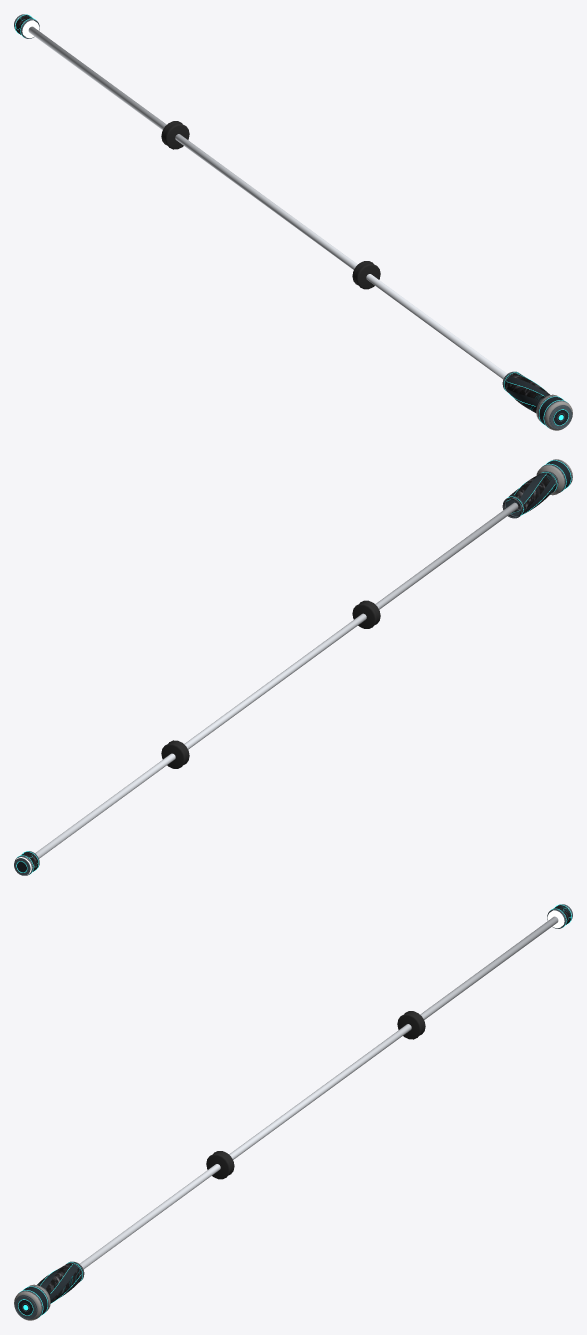
File: fuzeball_rod_3man.glb
3 views of the same model, one above another, from view 1: azimuth 30°, elevation 25°; view 2: azimuth 150°, elevation 25°; view 3: azimuth 330°, elevation 25° (orthographic).
Parts seen in each view (by area): view 1: rod2_bar.002, rod3_handle_obsidian_grip, obsidian_hardware_1, CylinderR, CylinderL; view 2: rod2_bar.002, rod3_handle_obsidian_grip, obsidian_hardware_1, CylinderR, CylinderL; view 3: rod2_bar.002, rod3_handle_obsidian_grip, obsidian_hardware_1, CylinderR, CylinderL.
Part boxes in pixels (x1,y1,x2,y2): rod2_bar.002: (28, 26, 506, 379); rod3_handle_obsidian_grip: (502, 372, 549, 412); obsidian_hardware_1: (14, 14, 572, 429); CylinderR: (161, 121, 189, 149); CylinderL: (352, 261, 380, 289); rod2_bar.002: (35, 502, 518, 858); rod3_handle_obsidian_grip: (502, 472, 558, 518); obsidian_hardware_1: (14, 459, 572, 875); CylinderR: (161, 740, 189, 768); CylinderL: (352, 600, 380, 628); rod2_bar.002: (80, 916, 558, 1269); rod3_handle_obsidian_grip: (37, 1262, 84, 1303); obsidian_hardware_1: (14, 904, 572, 1319); CylinderR: (397, 1011, 425, 1039); CylinderL: (206, 1151, 234, 1179).
Size of the model in its own units: 3.51 by 3.51 by 119.
Materials: 9 (1 with a texture image).
